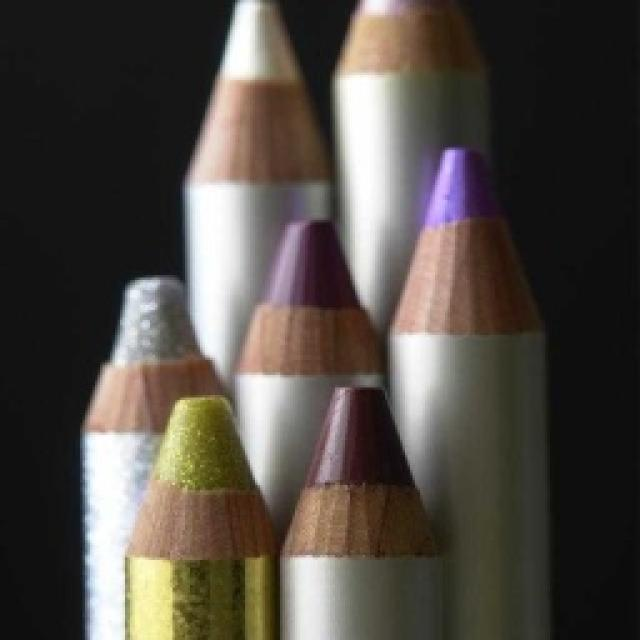pencil: (75, 0, 557, 638)
